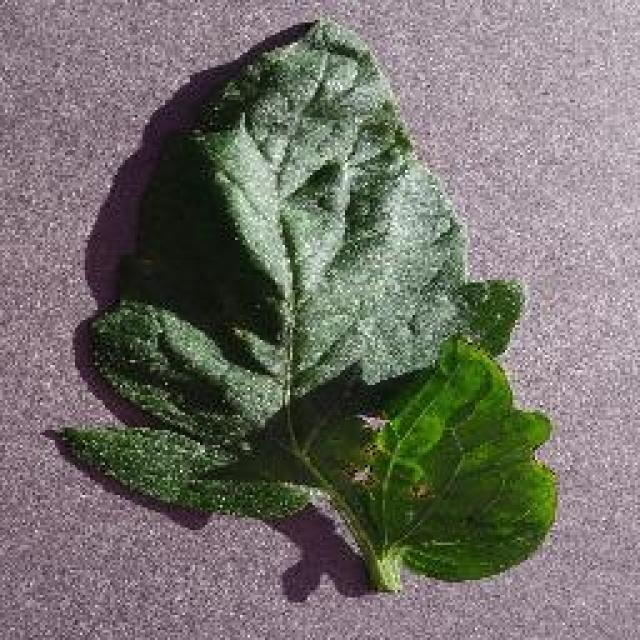Tomato Septoria spot leaf: (54, 17, 554, 585)
